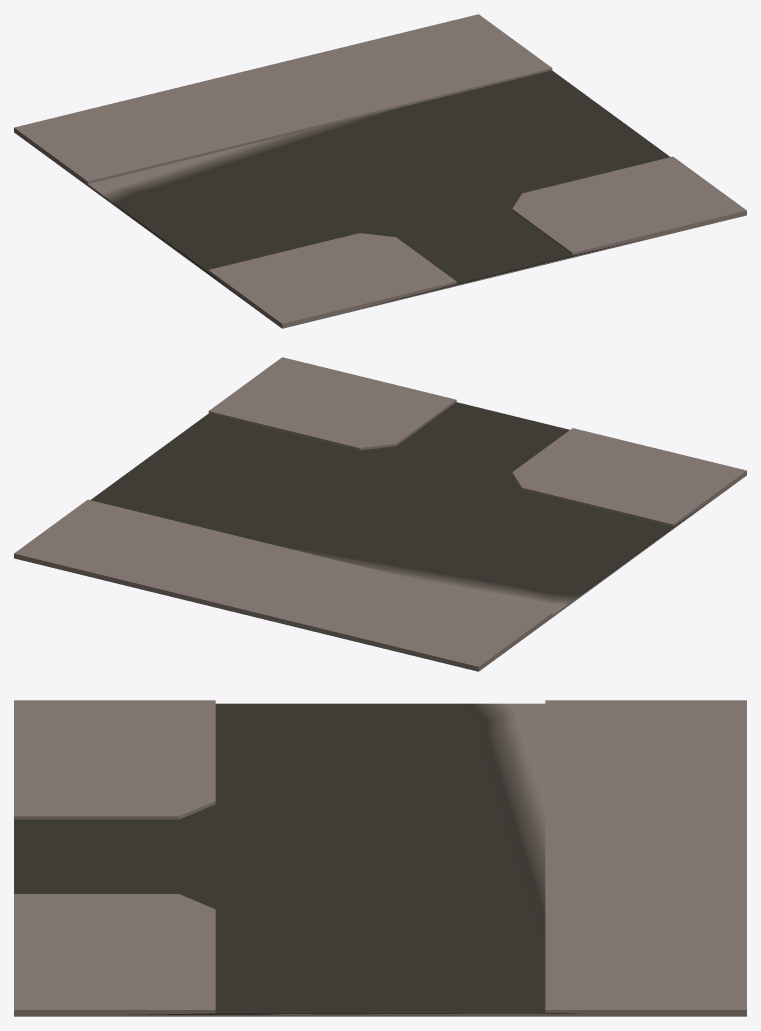
File: Env_1lane_To_Street_col.fbx
3 views of the same model, one above another, from view 1: azimuth 30°, elevation 25°; view 2: azimuth 150°, elevation 25°; view 3: azimuth 270°, elevation 25° (orthographic). The views are drawn at different scales.
Visible parts, largest first — view 1: Env_1lane_To_Street_col; view 2: Env_1lane_To_Street_col; view 3: Env_1lane_To_Street_col.
Boxes of the visible parts, x1,y1,x2,y2 form: Env_1lane_To_Street_col: (14,14,746,328); Env_1lane_To_Street_col: (14,357,746,671); Env_1lane_To_Street_col: (14,700,746,1016).
Size of the model in its own units: 2000 by 20 by 2000.
